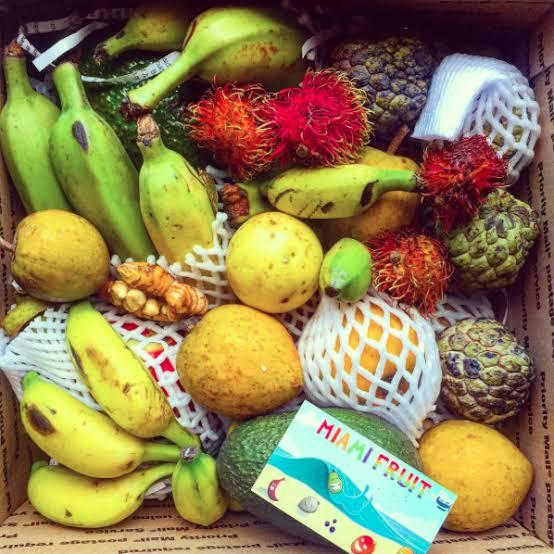chom_chom: (186, 66, 366, 178), (419, 133, 509, 221)
chuoi: (18, 297, 225, 529)
